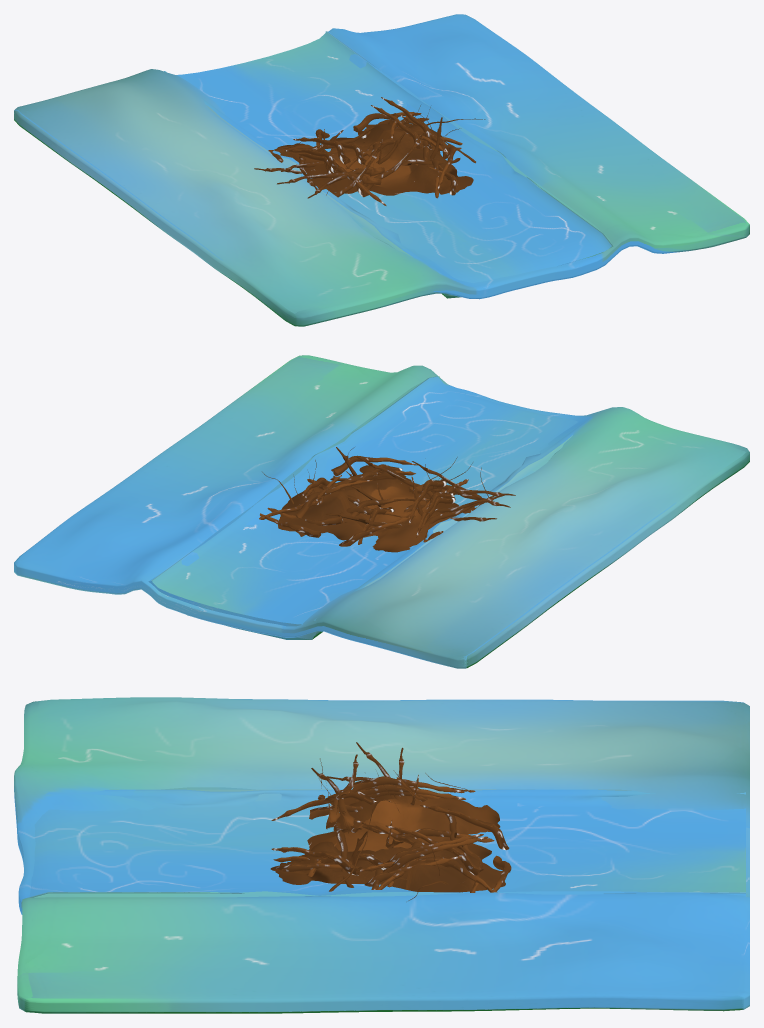
The model's file is DamFlooded.glb.
3 views of the same model, one above another, from view 1: azimuth 30°, elevation 25°; view 2: azimuth 150°, elevation 25°; view 3: azimuth 270°, elevation 25° (orthographic). The views are drawn at different scales.
Visible parts, largest first — view 1: water, dam2; view 2: water, dam2; view 3: water, dam2.
Boxes of the visible parts, bbox=[...] form: water: bbox=[14, 14, 749, 326]; dam2: bbox=[254, 97, 485, 205]; water: bbox=[14, 355, 749, 668]; dam2: bbox=[259, 447, 515, 552]; water: bbox=[14, 697, 749, 1013]; dam2: bbox=[270, 742, 511, 900].
Bounding box in the file's own units: 35.11 × 5.67 × 38.9.
Materials: 2 (2 with a texture image).
